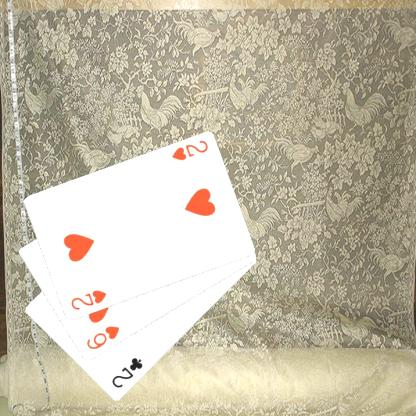2C: (109, 355, 144, 390)
2H: (68, 288, 108, 312), (169, 138, 209, 162)
6H: (84, 324, 121, 352)
